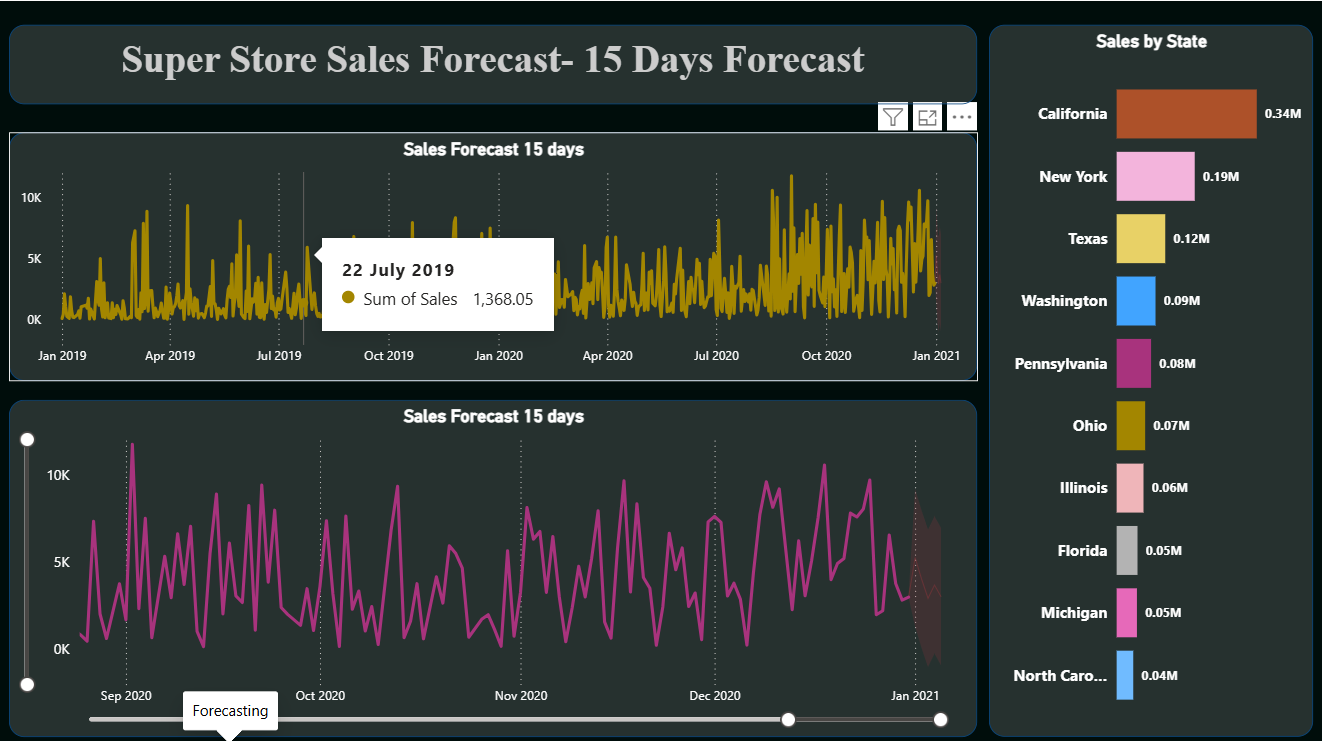

What the dashboard file says about the page in this screenshot:
{"tool":"powerbi","page":{"name":"Forecasting","canvas":[1280,720],"ordinal":1},"visuals":[{"type":"lineChart","title":"Sales Forecast 15 days","fields":{"Y":["Sum(SuperStore_Sales_Dataset.Sales)"],"Category":["SuperStore_Sales_Dataset.Order Date"]},"box":[10,127.1,934.3,240],"z":0},{"type":"lineChart","title":"Sales Forecast 15 days","fields":{"Y":["Sum(SuperStore_Sales_Dataset.Sales)"],"Category":["SuperStore_Sales_Dataset.Order Date"]},"box":[10,384.3,934.3,325.7],"z":1000},{"type":"clusteredBarChart","title":"Sales by State","fields":{"Category":["SuperStore_Sales_Dataset.State"],"Y":["Sum(SuperStore_Sales_Dataset.Sales)"]},"box":[955.7,22.9,312.9,687.1],"z":2000},{"type":"textbox","box":[10,22.9,934.3,77.1],"z":3000}]}

Visuals, with their boxes in screenshot pixels (x1, y1, x2, y2), scaled from the page's 1280x720 canvas onto the 1322x741 screenshot:
"Sales Forecast 15 days" lineChart: locate(10, 131, 975, 378)
"Sales Forecast 15 days" lineChart: locate(10, 396, 975, 731)
"Sales by State" clusteredBarChart: locate(987, 24, 1310, 731)
textbox: locate(10, 24, 975, 103)
